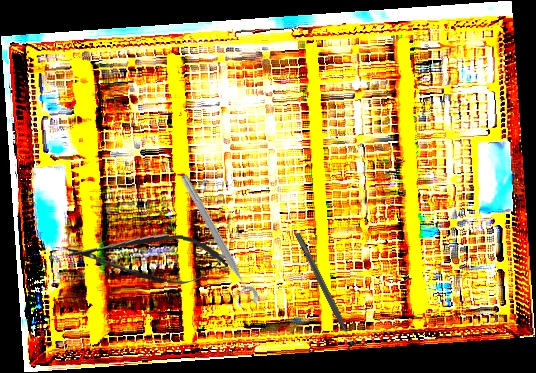Fixation Ring: (169, 171, 263, 313), (288, 228, 366, 354)
Micro Scissor: (63, 227, 230, 289)
